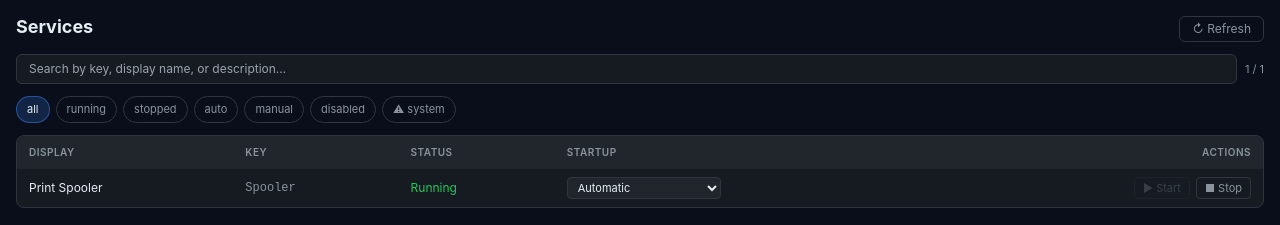
Test: Services page › refresh button re-fetches the services list
This screenshot has width=1280, height=225.
Expected: the text "Print Spooler" is shown, [17,168,233,206]
Click the button "↻ Refresh" at (1222, 29), box [1179,16,1264,42]
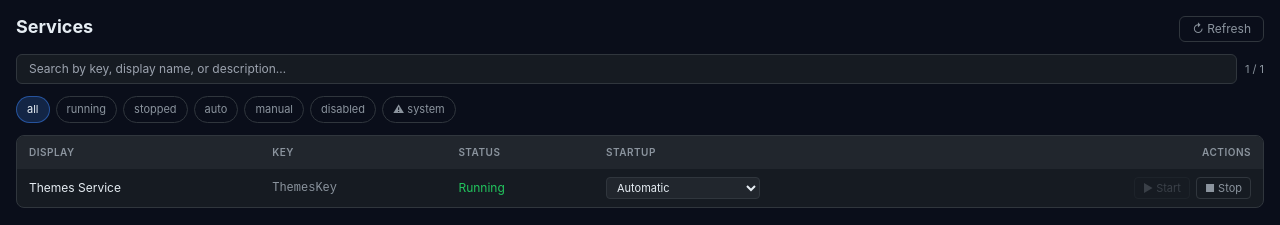
Expected: the text "Themes Service" is shown, [17,168,260,206]
